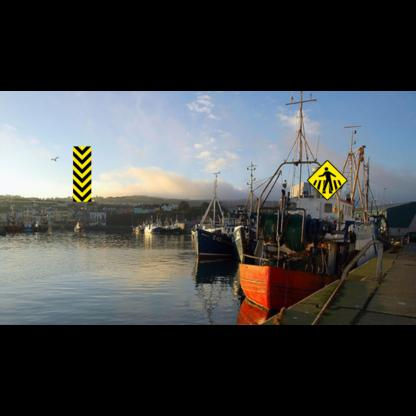A-32b: (307, 160, 348, 201)
O-MP: (73, 146, 91, 202)
